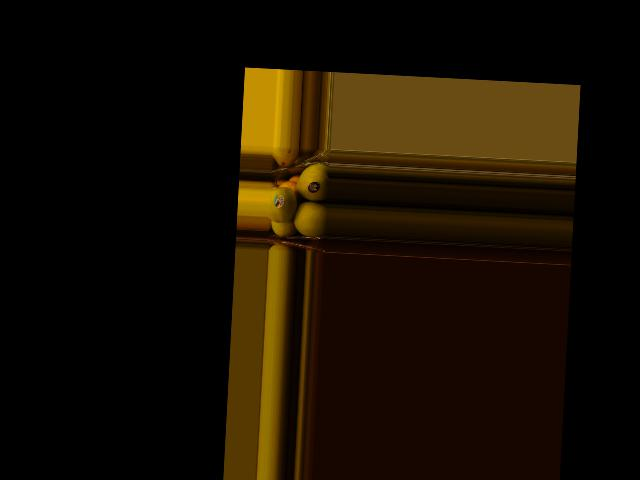apple: (268, 182, 297, 224)
